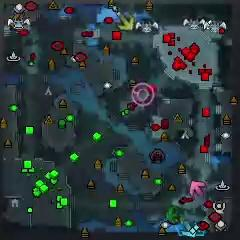x1: (189, 180, 206, 196)
x2: (117, 12, 135, 31)
x3: (182, 220, 197, 237)
x4: (165, 206, 183, 225)
